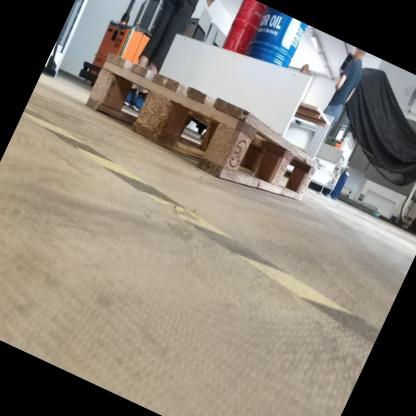BoxFace: (81, 47, 321, 205)
